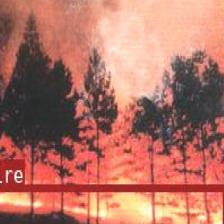fire: (0, 183, 224, 224)
